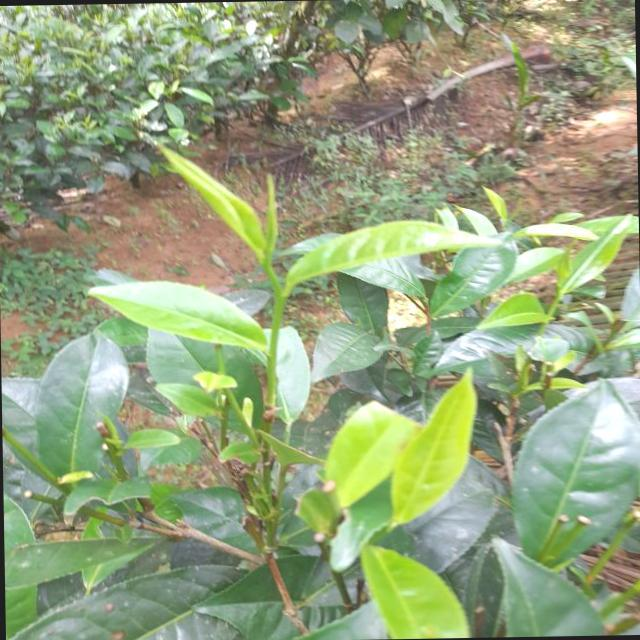Stem: (275, 291, 286, 306)
